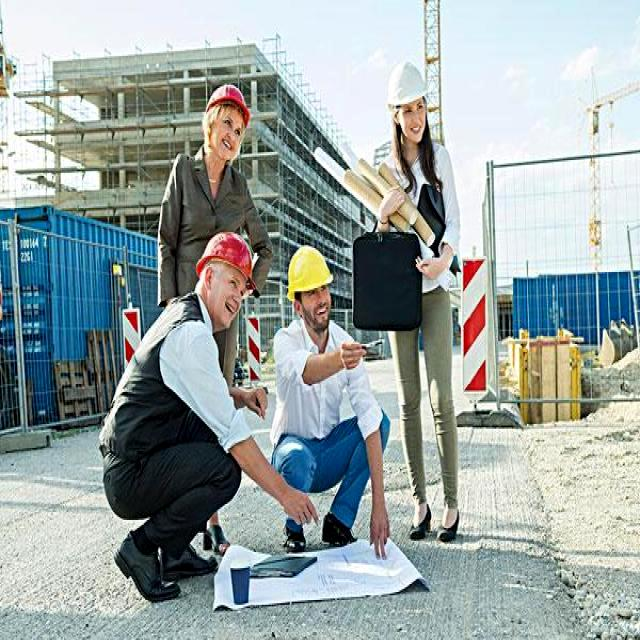hard_hat: (197, 234, 258, 294), (387, 61, 427, 123), (287, 246, 334, 296), (206, 84, 248, 113)
person: (99, 232, 317, 600), (375, 62, 459, 541), (272, 246, 389, 542), (159, 85, 272, 304)
